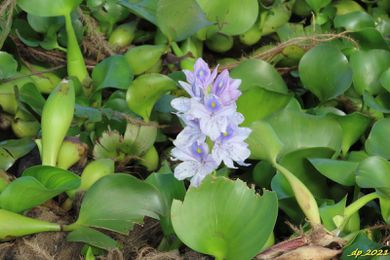water_hyacinth: (1, 0, 388, 252)
